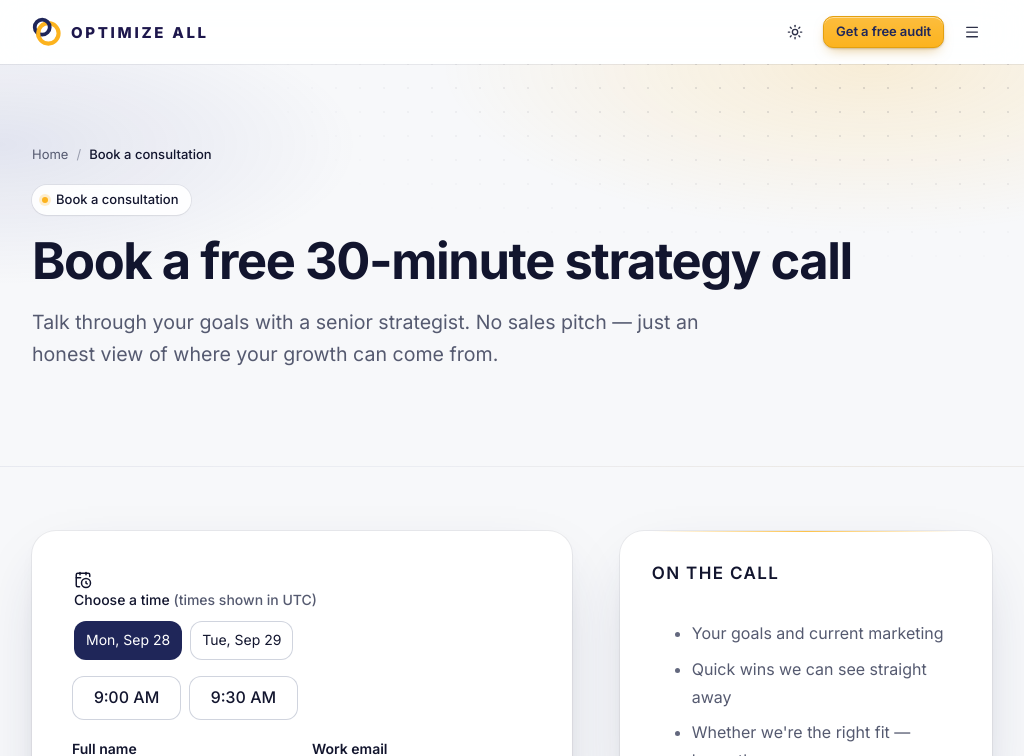
BookConsultationPage › refreshes the slots and asks for another time when the slot was just taken
The width and height of the screenshot is (1024, 756).
Click the button "9:00 AM" at coordinates (126, 698), box [72,676,181,720]
(page scrolled)
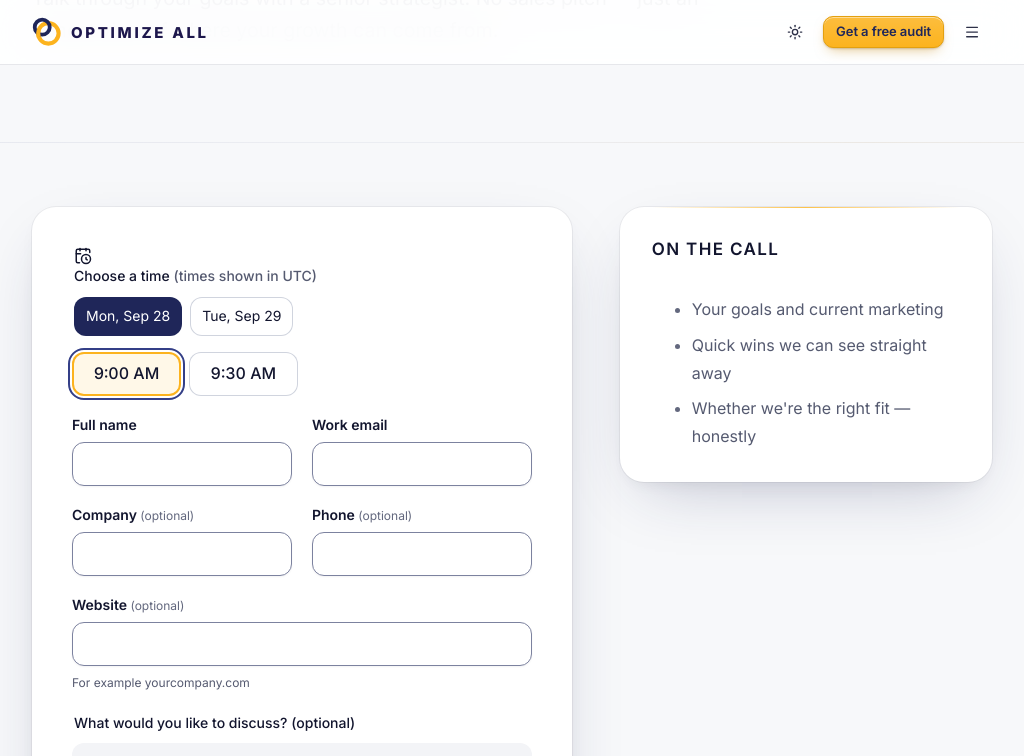
Type "Ada Lovelace" into the field labelled "Full name" at coordinates (182, 464), box [72,442,292,486]
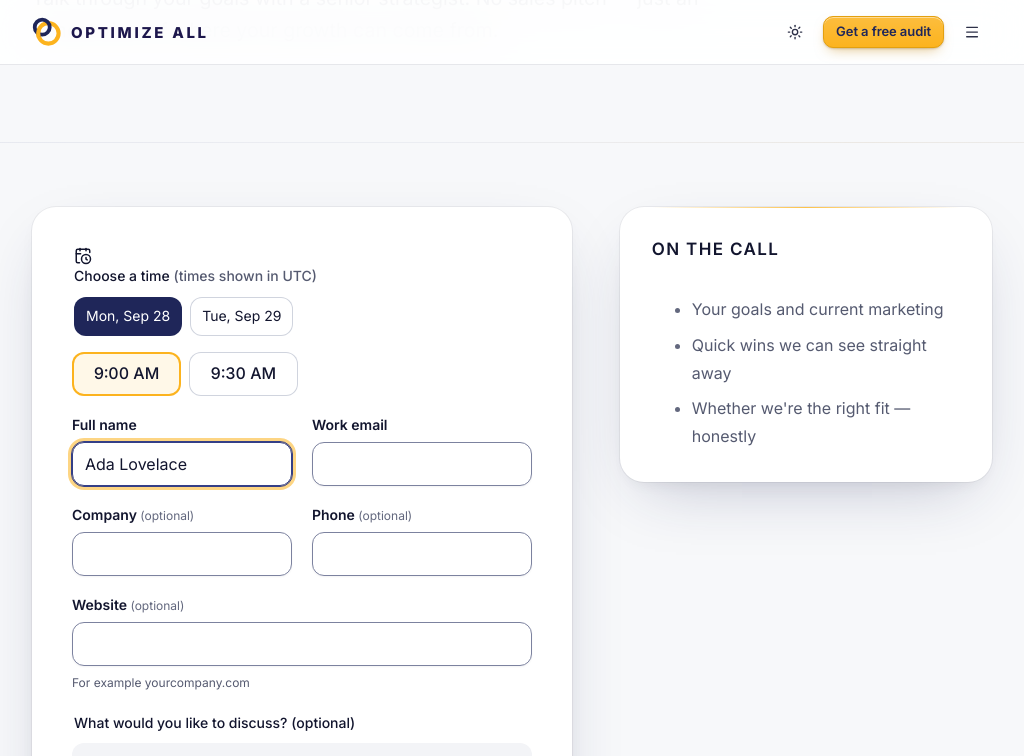
Type "ada@example.com" into the field labelled "Work email" at coordinates (422, 464), box [312,442,532,486]
(page scrolled)
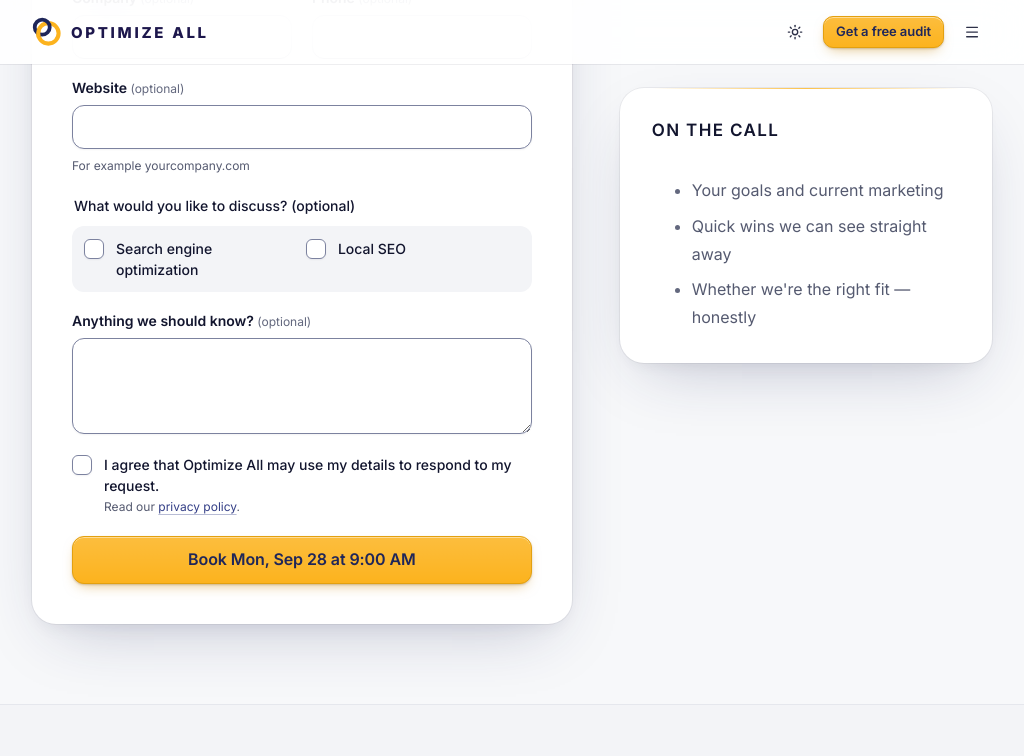
Click the checkbox labelled "may use my details" at coordinates (82, 465), box [72,455,92,475]
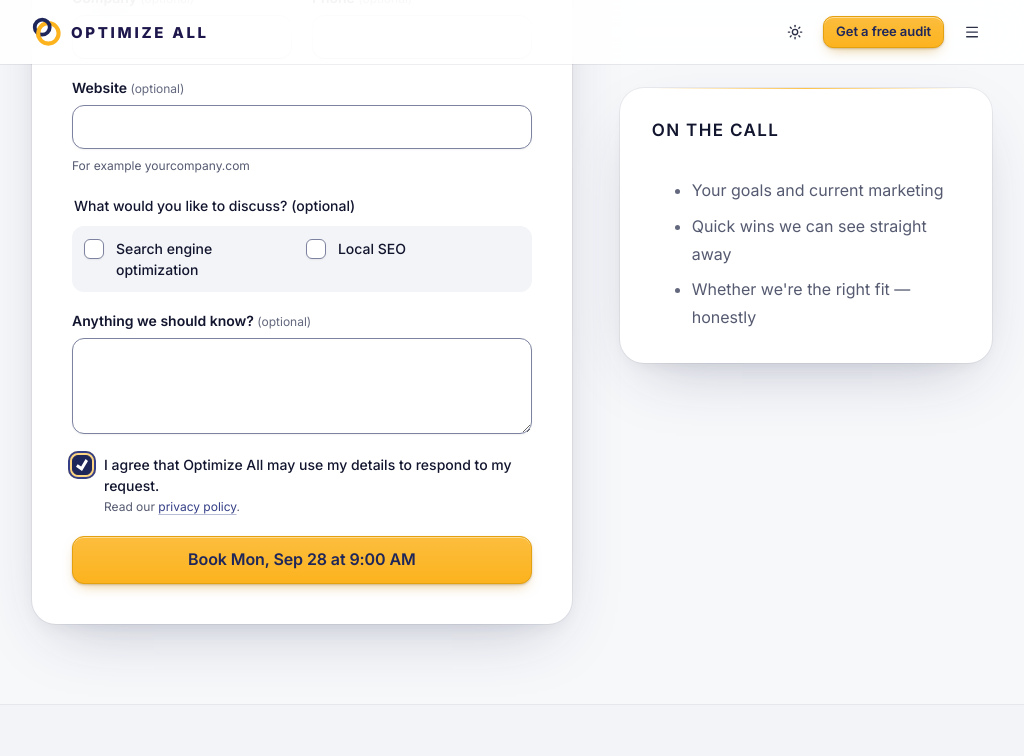
Click the button "Book Mon, Sep 28 at 9:00 AM" at coordinates (302, 560), box [72,536,532,584]
(page scrolled)
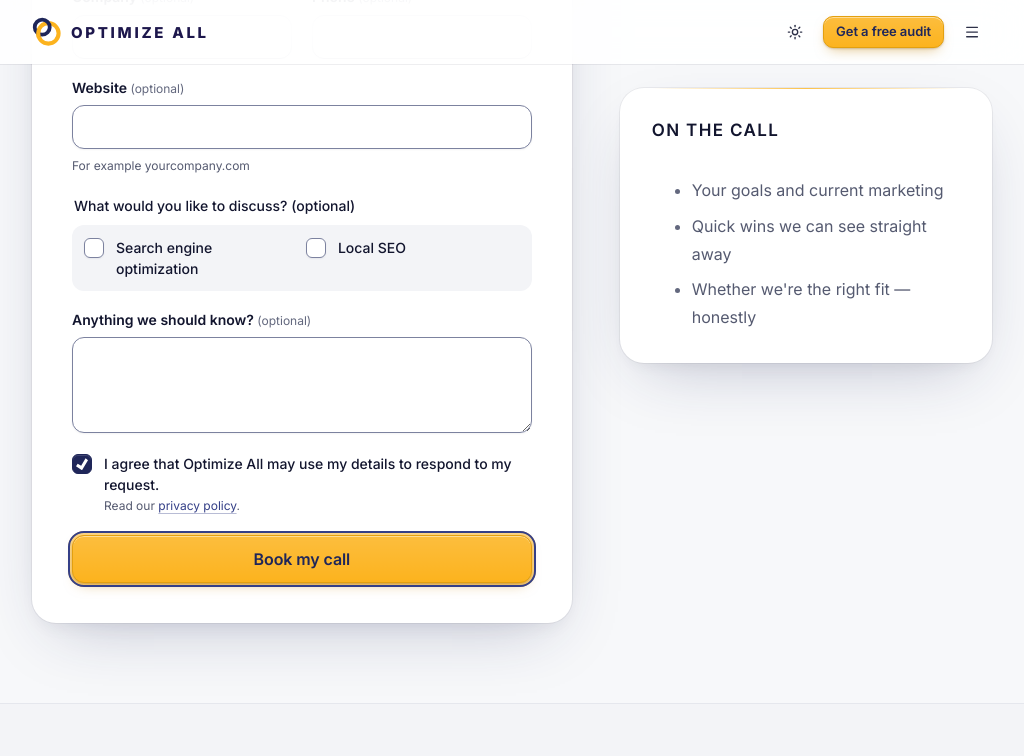
Now the button "Book my call" is shown, box [72,535,532,583]
